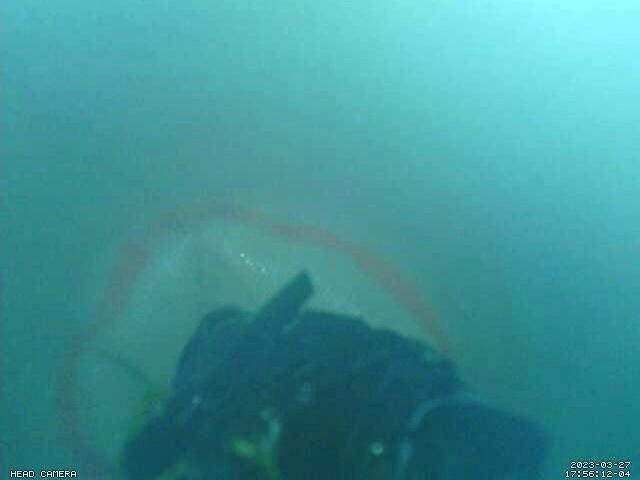head: (56, 201, 451, 480)
